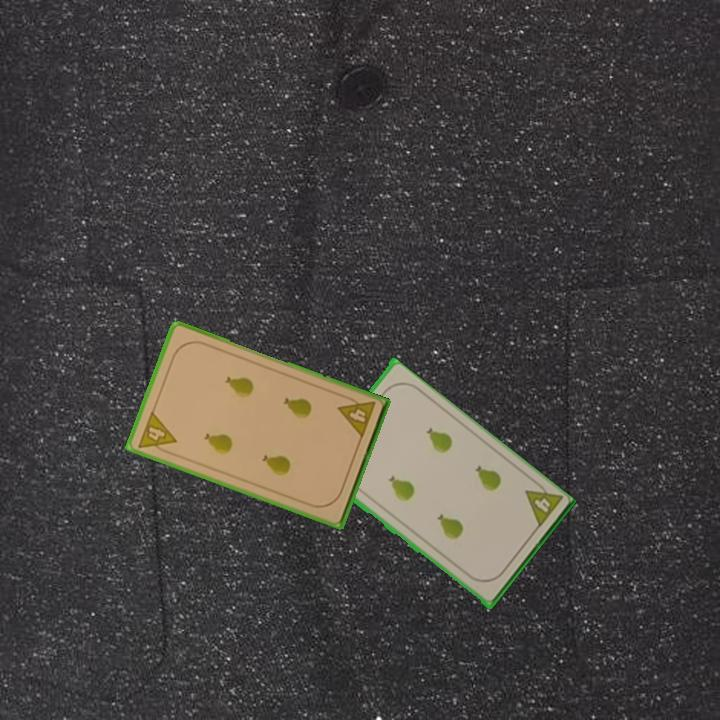4p: (521, 476, 565, 532), (134, 407, 179, 458), (334, 392, 378, 441)
